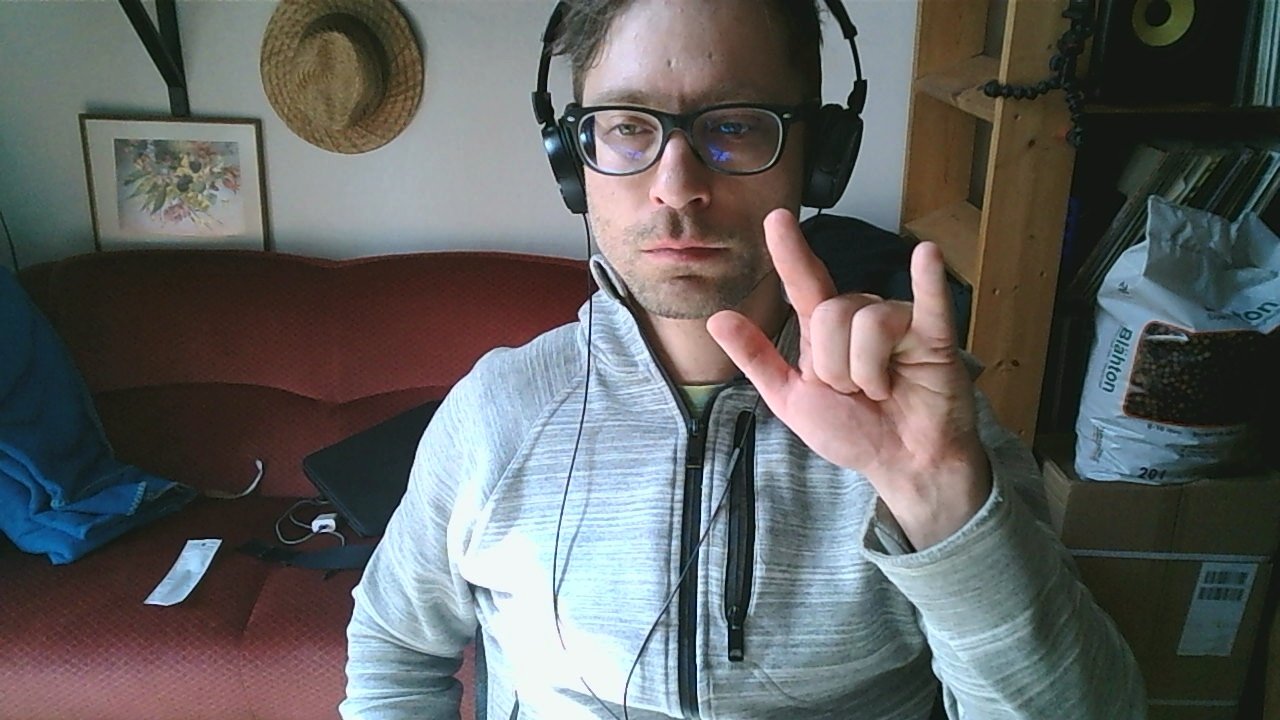iloveyou: (709, 208, 957, 467)
